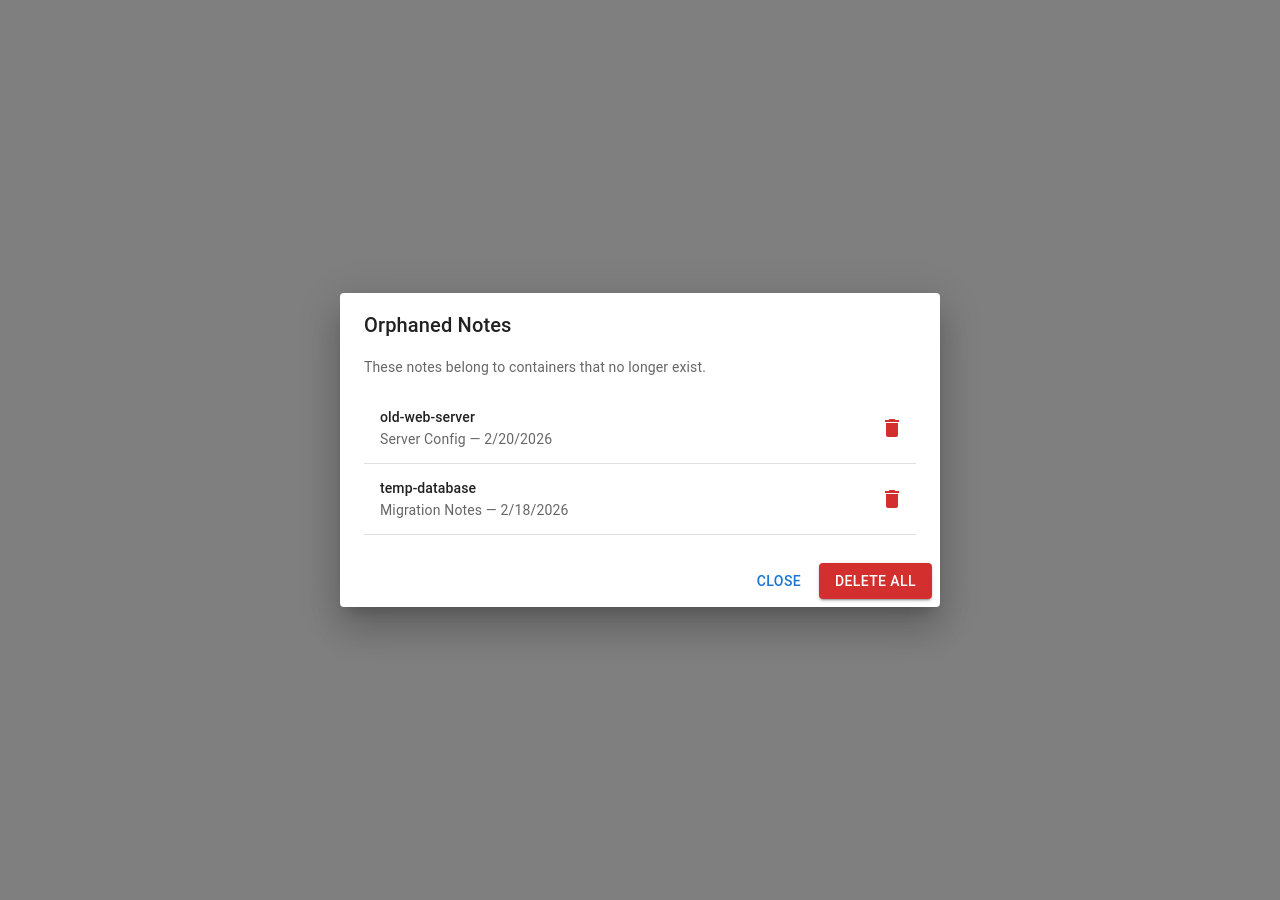
OrphanedNotesDialog › shows confirmation dialog when Delete All is clicked
Click the button "Delete All" at x=875, y=581, box top-left (819, 563), bottom-right (932, 599)
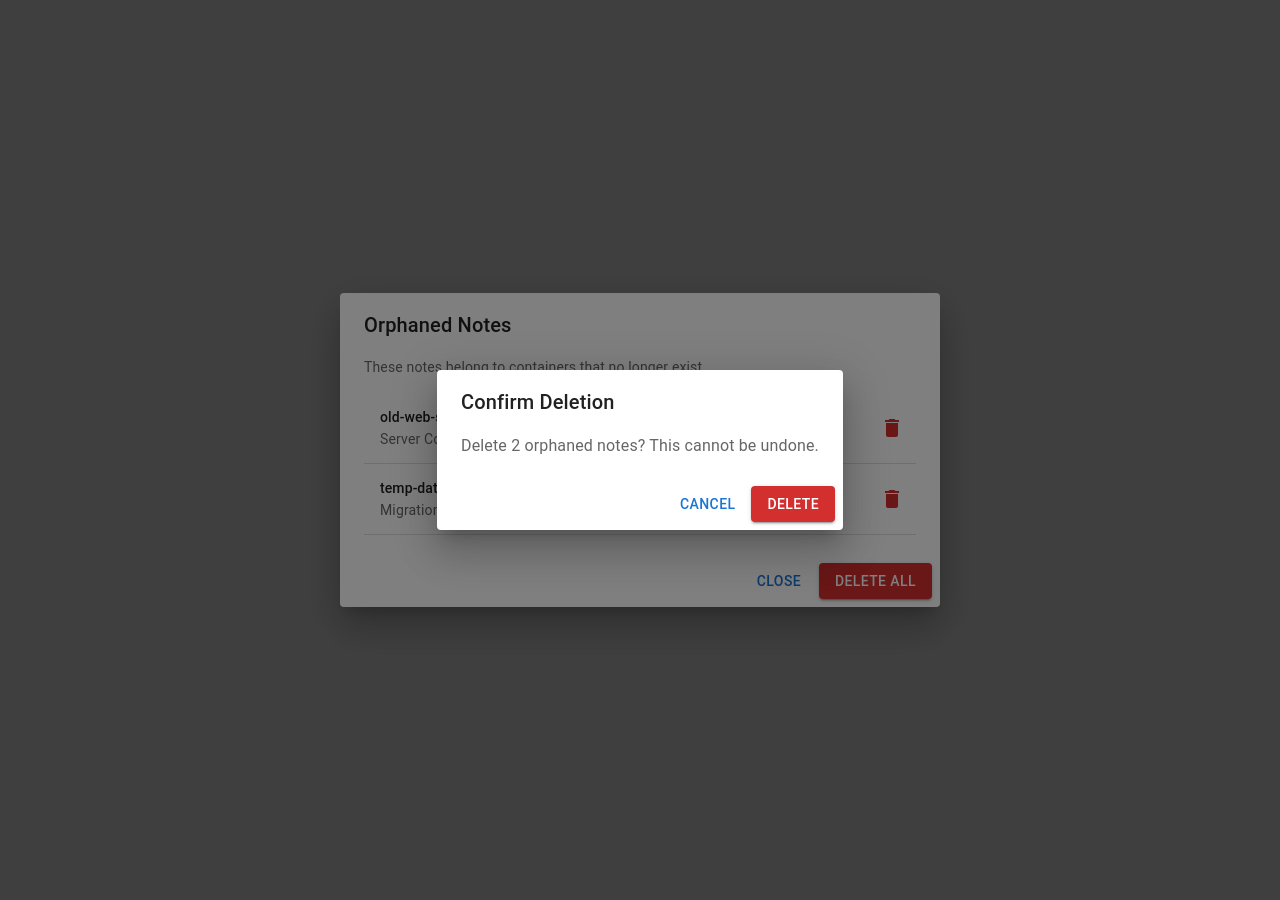
Check: the text "Delete 2 orphaned notes? This cannot be undone." is shown, box top-left (461, 434), bottom-right (819, 458)
